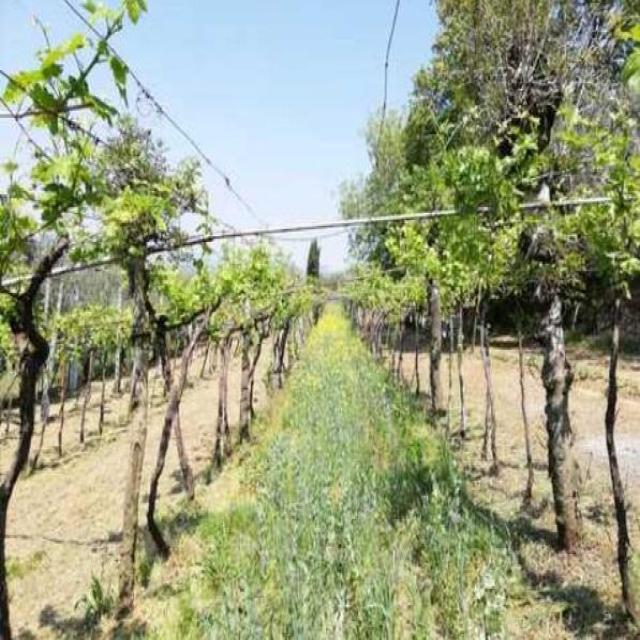row: (74, 308, 627, 640), (5, 353, 276, 627), (399, 329, 640, 488)
